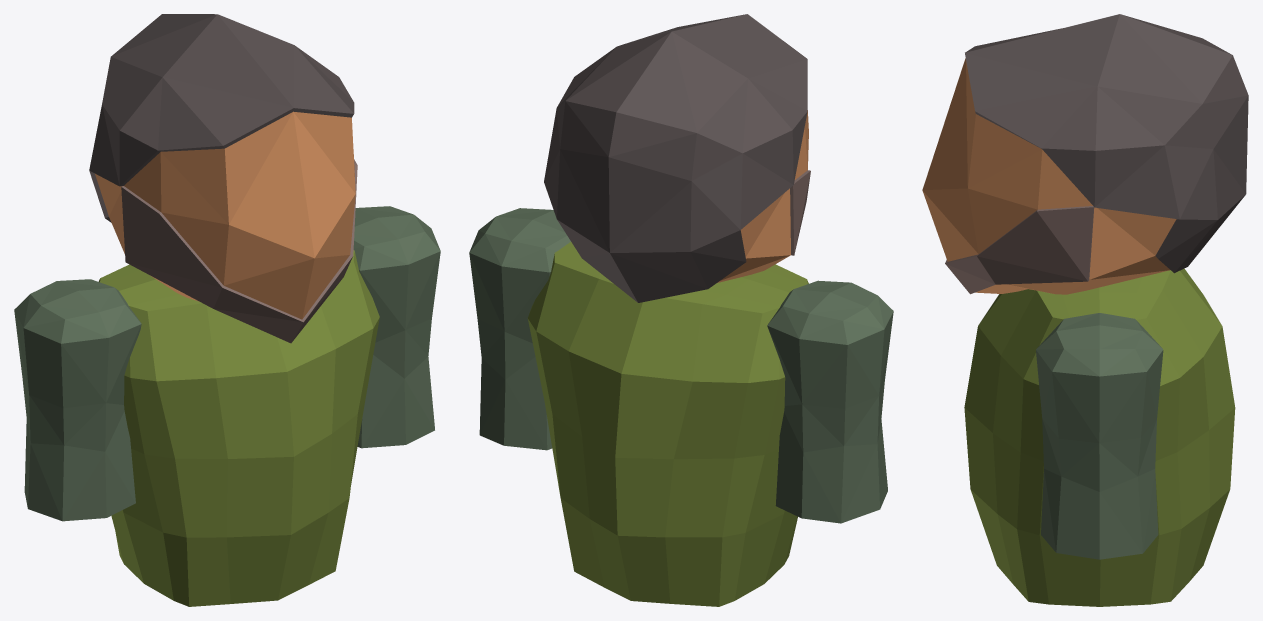
File: nomad.glb
3 renders of one model, left to right at view 1: azimuth 30°, elevation 25°; view 2: azimuth 150°, elevation 25°; view 3: azimuth 270°, elevation 25°, orthographic. The views are drawn at different scales.
Parts seen in each view (by area): view 1: Nomad; view 2: Nomad; view 3: Nomad.
Boxes of the visible parts, left/top/right/bottom form: Nomad: left=14, top=14, right=440, bottom=606; Nomad: left=469, top=14, right=893, bottom=606; Nomad: left=922, top=14, right=1248, bottom=606.
Bounding box in the file's own units: 2.53 × 3.21 × 1.72.
